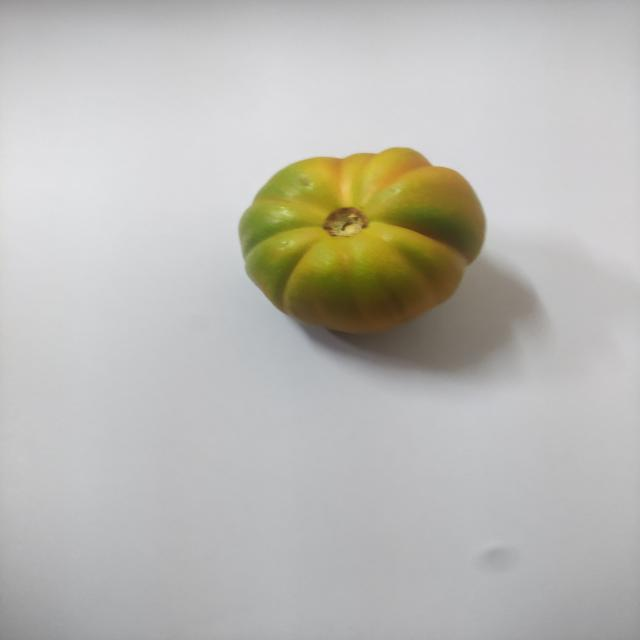yesil: (236, 140, 498, 332)
